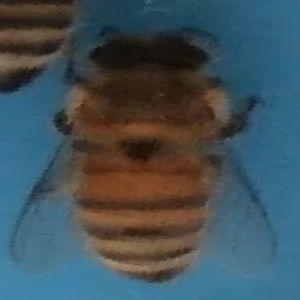bee: (77, 24, 287, 286), (7, 2, 65, 97)
